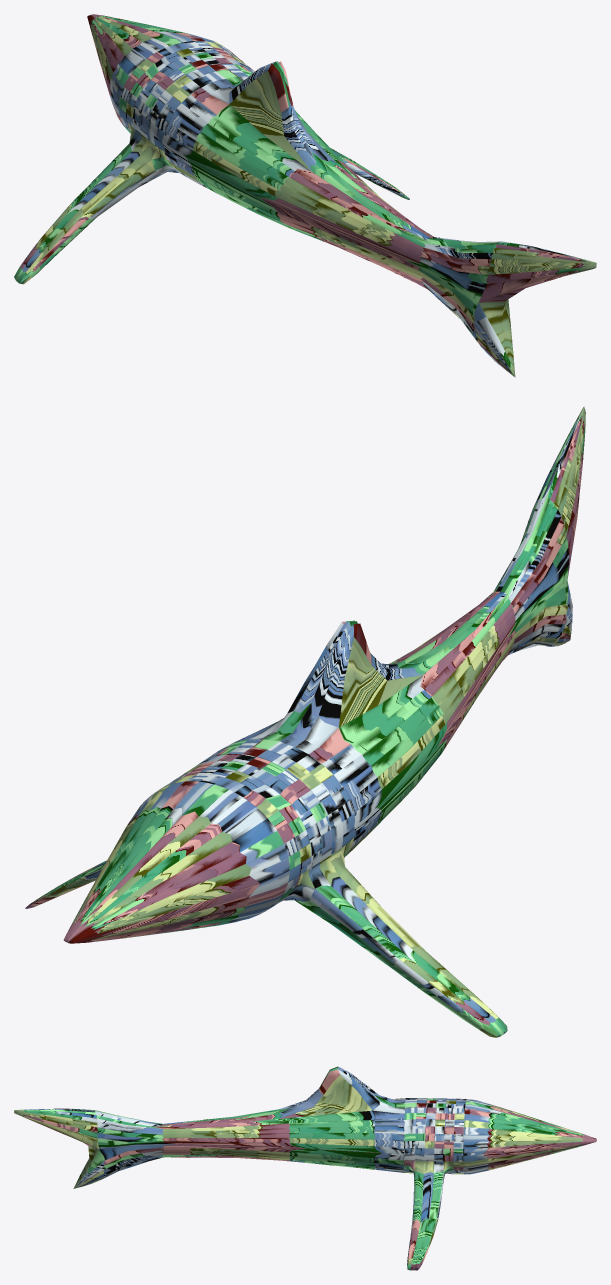
Rendered from shark.obj.
3 renders of one model, top to bottom at view 1: azimuth 30°, elevation 25°; view 2: azimuth 150°, elevation 25°; view 3: azimuth 270°, elevation 25°, orthographic. The views are drawn at different scales.
Parts seen in each view (by area): view 1: Cylinder; view 2: Cylinder; view 3: Cylinder.
Part boxes in pixels (x1,y1,x2,y2): Cylinder: (14, 14, 596, 377); Cylinder: (25, 406, 585, 1037); Cylinder: (14, 1066, 596, 1270).
Size of the model in its own units: 2.16 by 1.23 by 4.47.
Materials: 1 (1 with a texture image).
